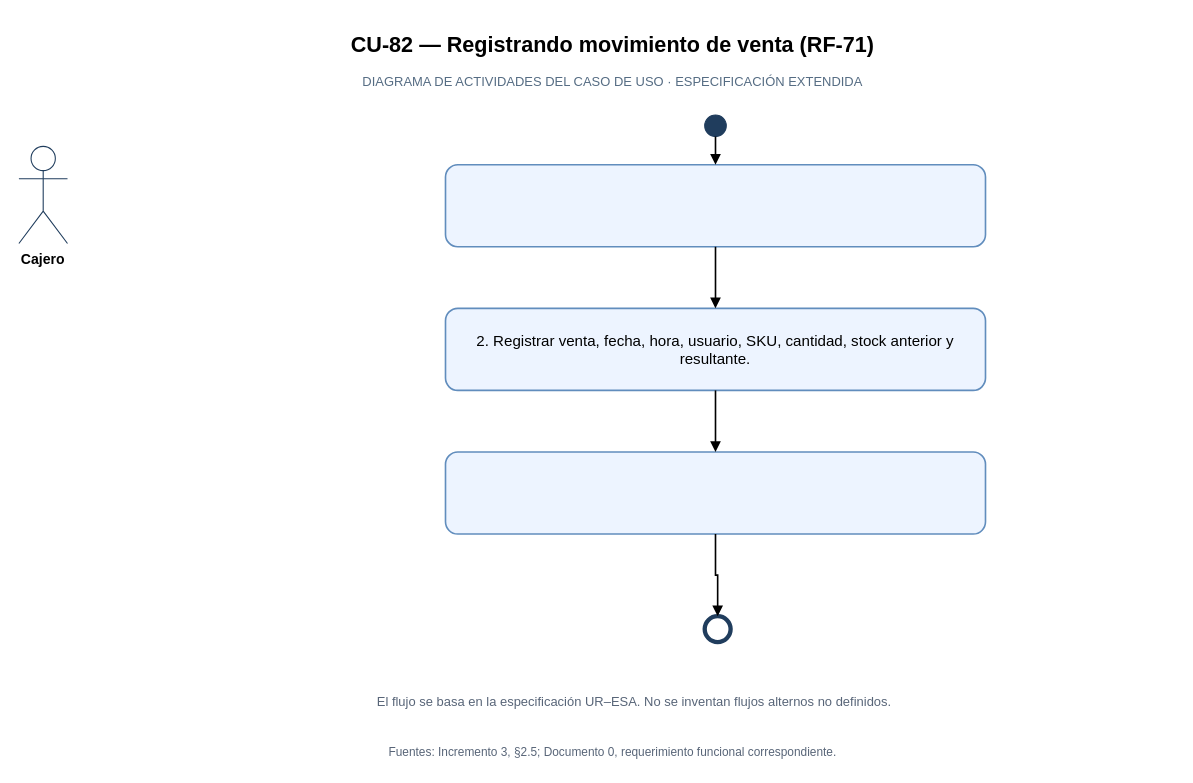
This 1193x783 diagram has some shape labels left out. The box of each missing label's shape, as (x1, y1, x2, y2) in pixels:
1. Crear un movimiento de tipo “Venta” por cada producto vendido.: (444, 163, 986, 247)
3. Dejar los movimientos disponibles en el historial de inventario.: (444, 451, 986, 534)
